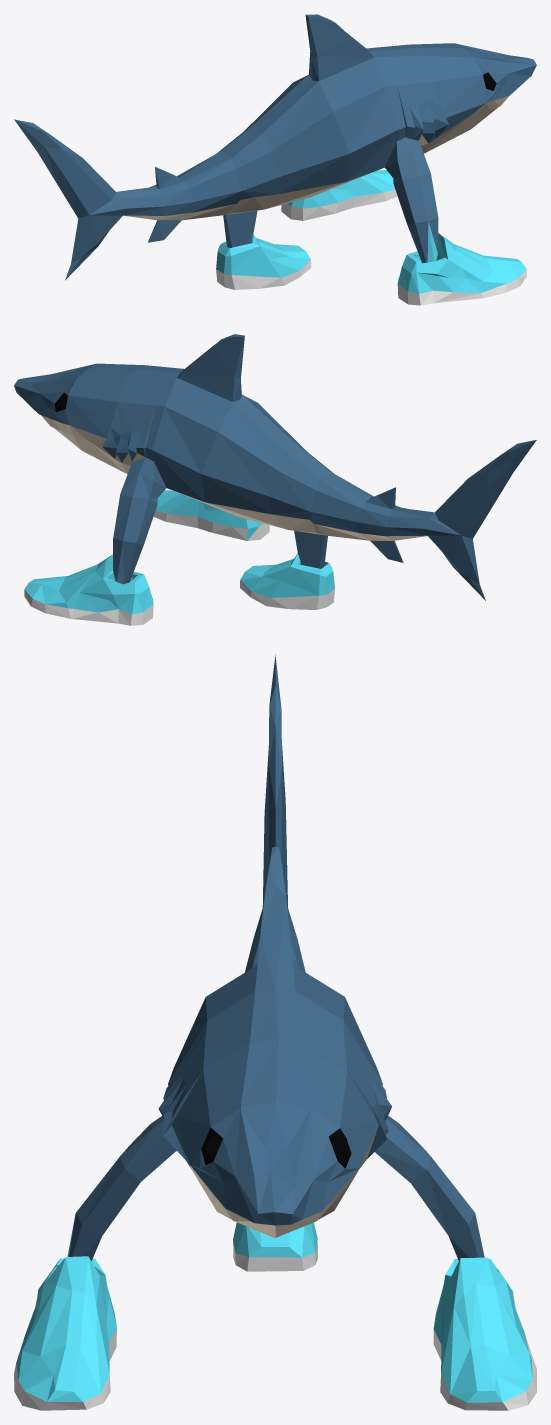
The model's file is Tralalero Tralala.glb.
3 renders of one model, top to bottom at view 1: azimuth 30°, elevation 25°; view 2: azimuth 150°, elevation 25°; view 3: azimuth 270°, elevation 25°, orthographic. The views are drawn at different scales.
Visible parts, largest first — view 1: Tralalero Tralala; view 2: Tralalero Tralala; view 3: Tralalero Tralala.
Boxes of the visible parts, box(x1,y1,x2,y2) form: Tralalero Tralala: box(14, 14, 536, 305); Tralalero Tralala: box(14, 334, 536, 625); Tralalero Tralala: box(14, 654, 536, 1410).
Size of the model in its own units: 1.5 by 0.6983 by 0.7502.
